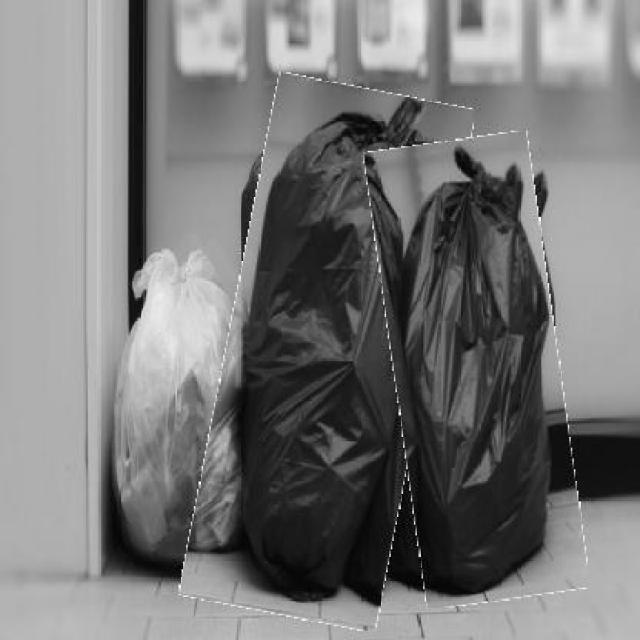waste: (203, 80, 452, 626), (378, 136, 574, 606)
